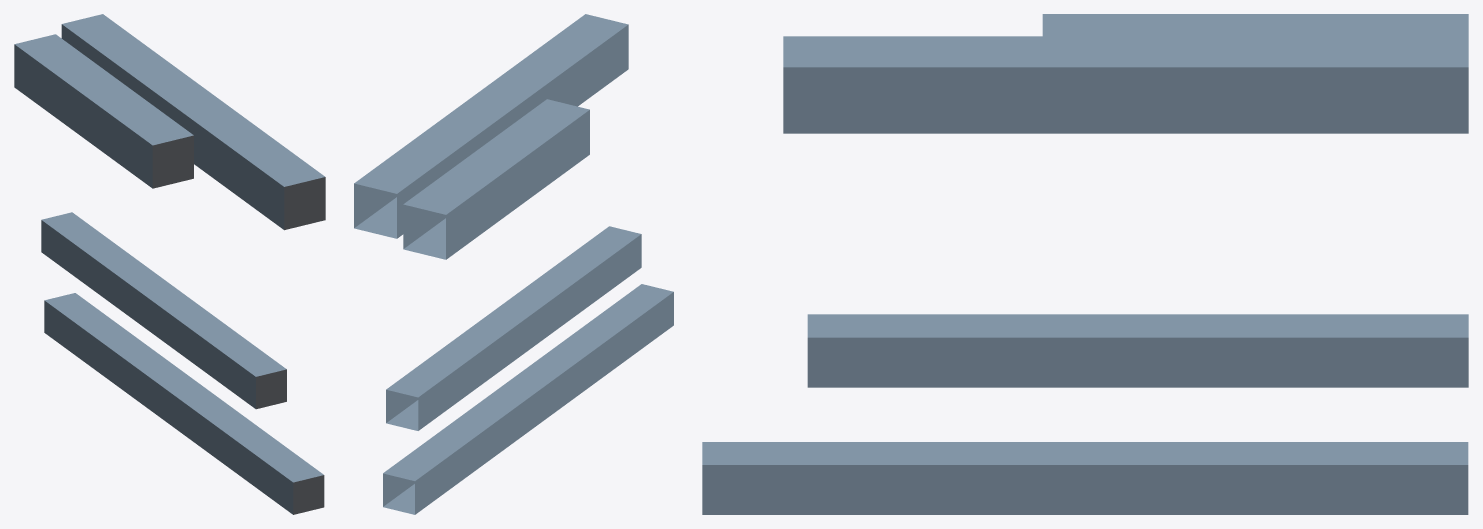
File: island_bldg_07_07.obj
3 renders of one model, left to right at view 1: azimuth 30°, elevation 25°; view 2: azimuth 150°, elevation 25°; view 3: azimuth 270°, elevation 25°, orthographic. The views are drawn at different scales.
Parts seen in each view (by area): view 1: island_bldg_07_07; view 2: island_bldg_07_07; view 3: island_bldg_07_07.
Part boxes in pixels (x1,y1,x2,y2): island_bldg_07_07: (14, 14, 325, 514); island_bldg_07_07: (354, 14, 673, 514); island_bldg_07_07: (702, 14, 1468, 514).
Size of the model in its own units: 68.6 by 225 by 334.
